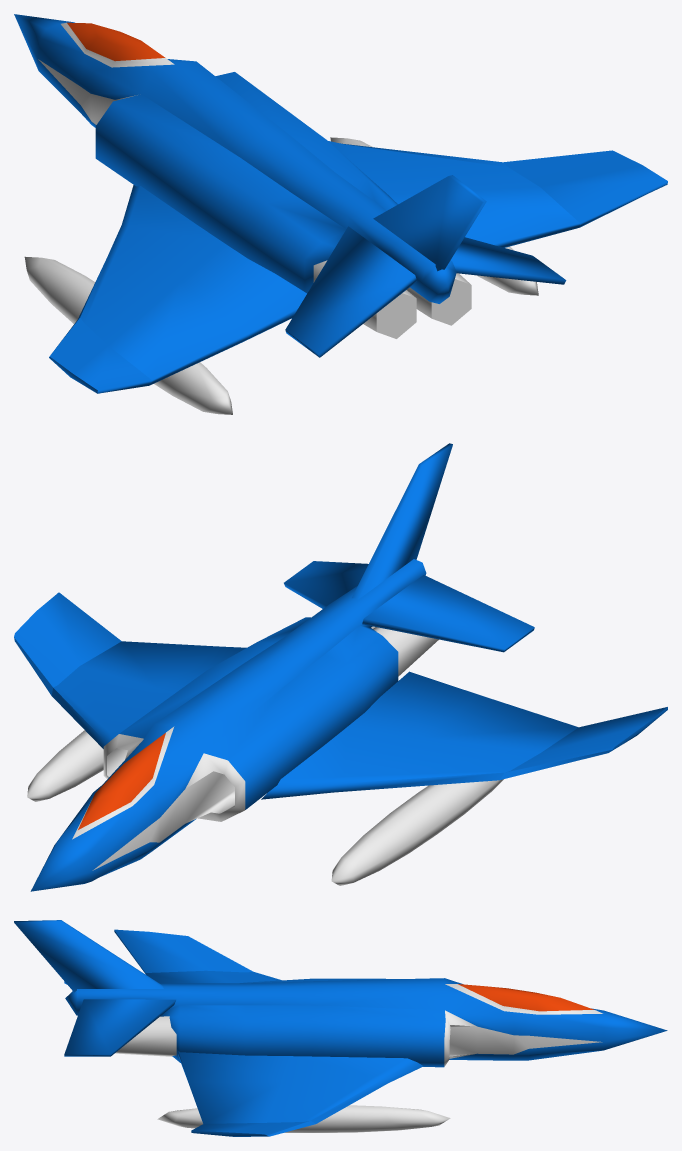
File: player.gltf
3 views of the same model, one above another, from view 1: azimuth 30°, elevation 25°; view 2: azimuth 150°, elevation 25°; view 3: azimuth 270°, elevation 25° (orthographic). The views are drawn at different scales.
Visible parts, largest first — view 1: Cube.001, Cube, Cube.003, Cylinder.007, Cube.002, Cylinder; view 2: Cube.001, Cube, Cylinder.007, Cube.003, Cube.002, Cylinder; view 3: Cube.001, Cube, Cube.002, Cube.003, Cylinder.007, Cylinder.
Part boxes in pixels (x1,y1,x2,y2): Cube.001: (14,14,456,303); Cube: (49,141,667,393); Cube.003: (285,226,566,357); Cylinder.007: (24,137,538,414); Cube.002: (373,175,486,271); Cylinder: (313,260,471,338); Cube.001: (30,559,426,891); Cube: (14,592,667,799); Cylinder.007: (27,730,503,885); Cube.003: (284,561,534,652); Cube.002: (352,443,452,599); Cylinder: (371,626,438,676); Cube.001: (65,978,667,1067); Cube: (114,929,423,1136); Cube.002: (14,920,163,992); Cube.003: (64,981,175,1056); Cylinder.007: (157,1105,450,1132); Cylinder: (115,1016,176,1056).
Bounding box in the file's own units: 12.17 × 4.77 × 15.85.
